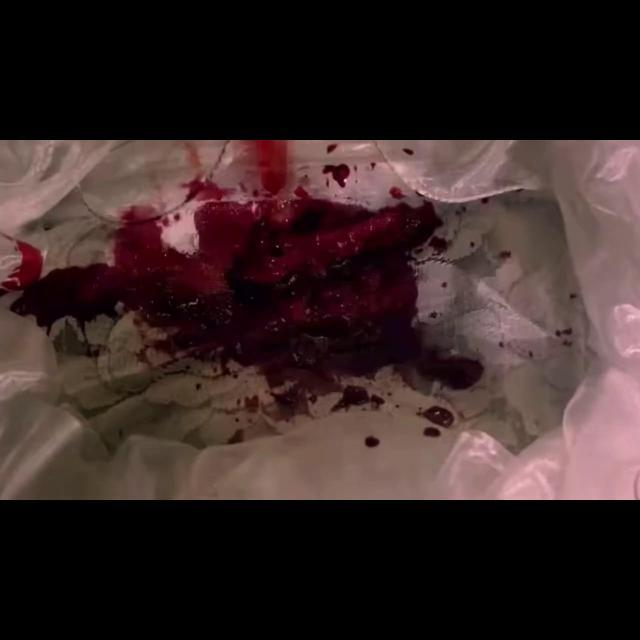blood: (0, 140, 603, 499)
